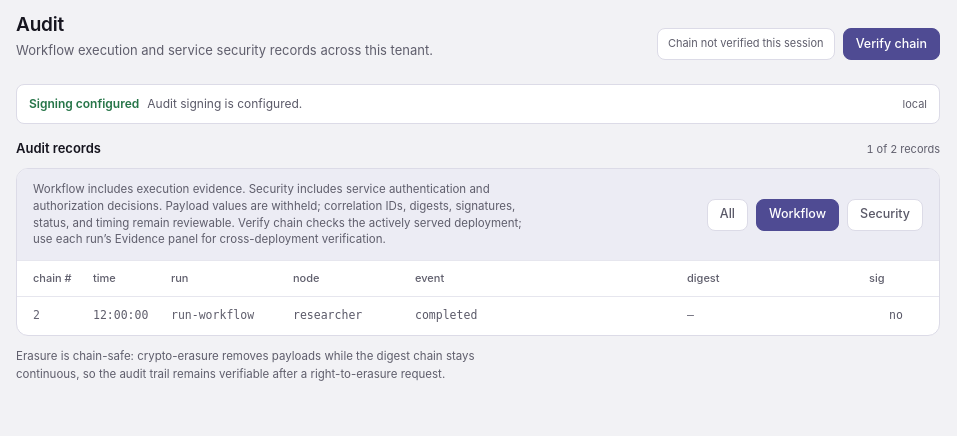
Test case: audit record views › filters persisted service authorization records without hiding them from All
The width and height of the screenshot is (957, 436).
Expected: the button "Workflow" is shown, [756,199,839,231]
Expected: the text "service.authorization" is not shown
Click the button "Security" at (885, 215), box [847,199,923,231]
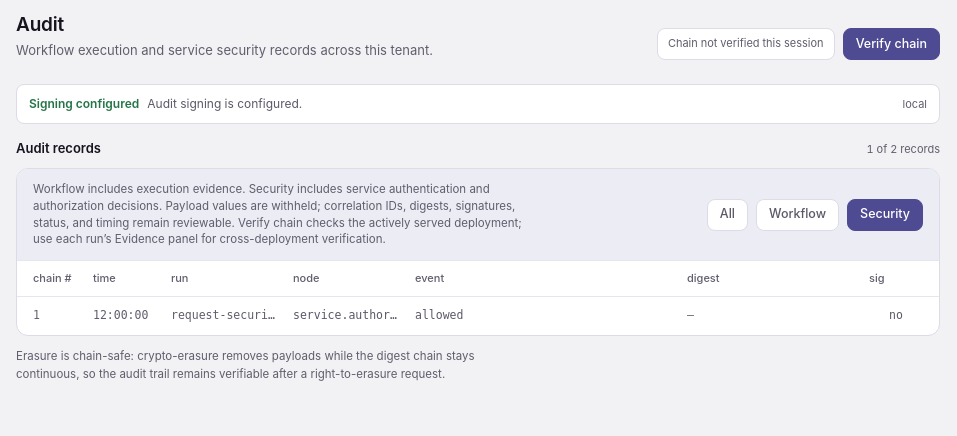
Expected: the text "1 of 2 records" is shown, [866,142,940,158]
Result: the text "researcher" is gone
Result: the text "service.authorization" is shown at [293,307,403,325]
Click the button "All" at (727, 215), box [707,199,748,231]
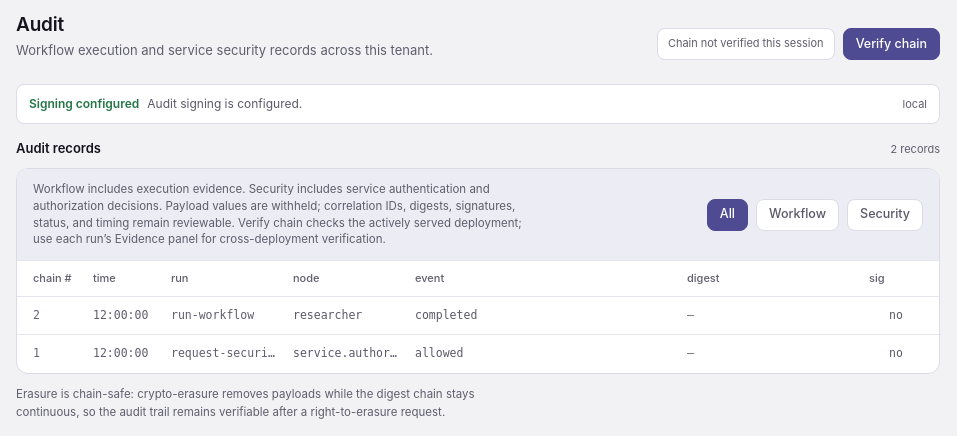
Result: the text "service.authorization" is shown at [293,345,403,363]
Result: the text "researcher" is shown at [293,308,362,322]
